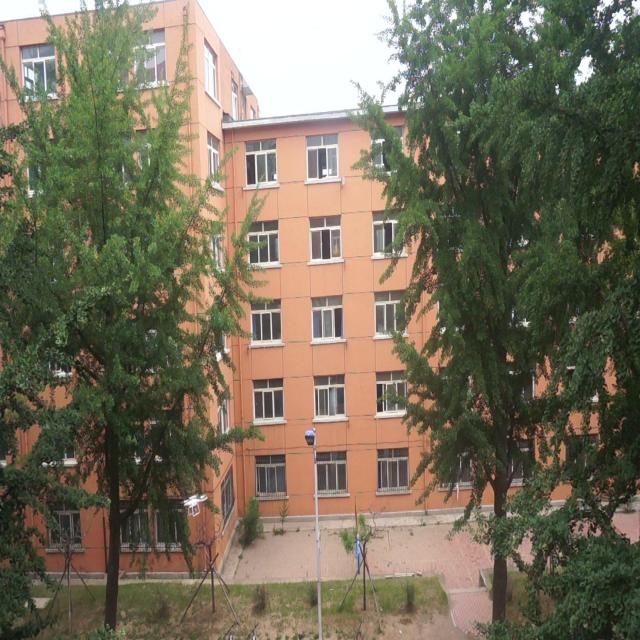drone: (182, 491, 207, 519)
